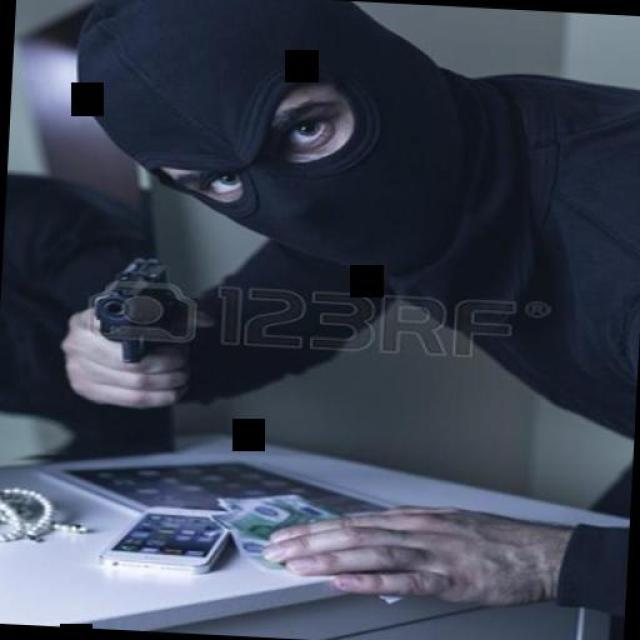gun: (86, 254, 176, 364)
